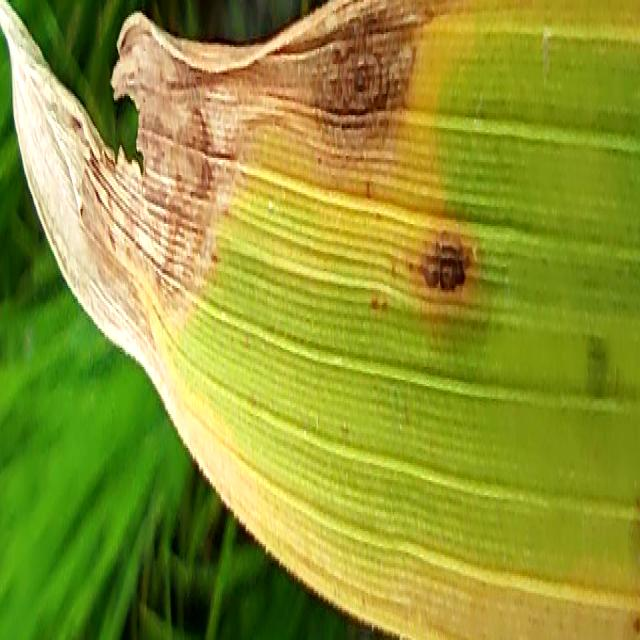NBS: (409, 237, 472, 302), (373, 298, 388, 315)
